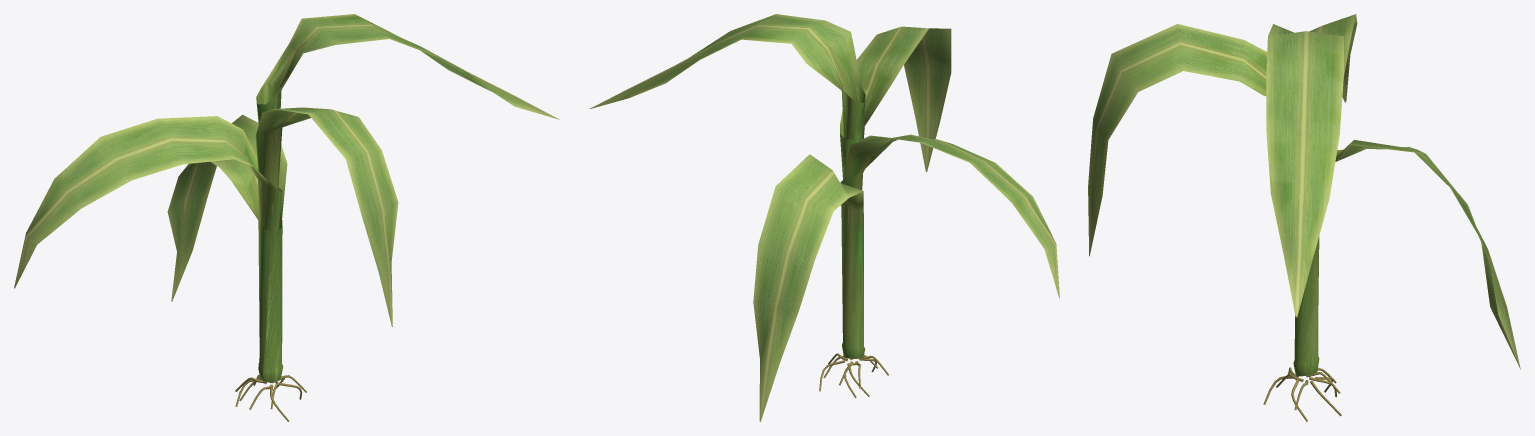
File: grow2.fbx
3 views of the same model, side by side, from view 1: azimuth 30°, elevation 25°; view 2: azimuth 150°, elevation 25°; view 3: azimuth 270°, elevation 25° (orthographic). The views are drawn at different scales.
Visible parts, largest first — view 1: Plane.011, Plane.008, Plane.010, Plane.009; view 2: Plane.008, Plane.010, Plane.009, Plane.011; view 3: Plane.009, Plane.010, Plane.008, Plane.011.
Part boxes in pixels (<box>): Plane.011: <box>14,116,282,288</box>; Plane.008: <box>167,114,287,383</box>; Plane.010: <box>255,107,398,326</box>; Plane.009: <box>256,14,559,124</box>; Plane.008: <box>753,154,865,421</box>; Plane.010: <box>840,26,951,179</box>; Plane.009: <box>589,14,865,139</box>; Plane.011: <box>840,134,1059,297</box>; Plane.009: <box>1266,24,1343,317</box>; Plane.010: <box>1088,24,1267,256</box>; Plane.008: <box>1293,140,1520,376</box>; Plane.011: <box>1309,14,1357,102</box>.
Bounding box in the file's own units: 0.8109 × 0.8256 × 1.23.
Materials: 2 (2 with a texture image).
